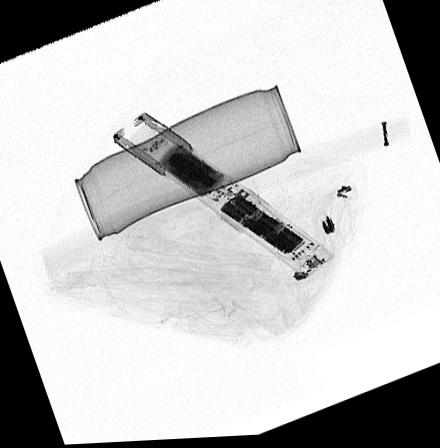Baton: (112, 112, 333, 286)
